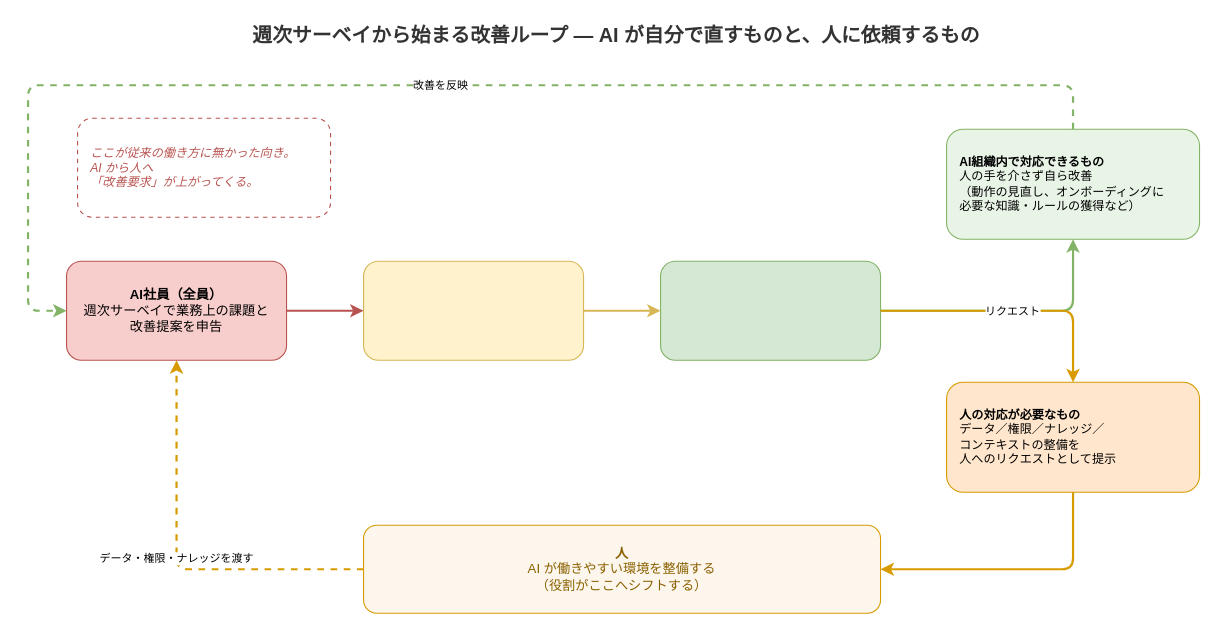
Image size: 1219x633. Some labels were removed from this diagram. Each missing label, with the box of its shape:
AIボード（CxO機能） 週次で審議・決議し、 対応先を切り分ける: (659, 260, 881, 360)
AIマネージャー サーベイスコアとフリーコメントを とりまとめる: (362, 260, 584, 360)
